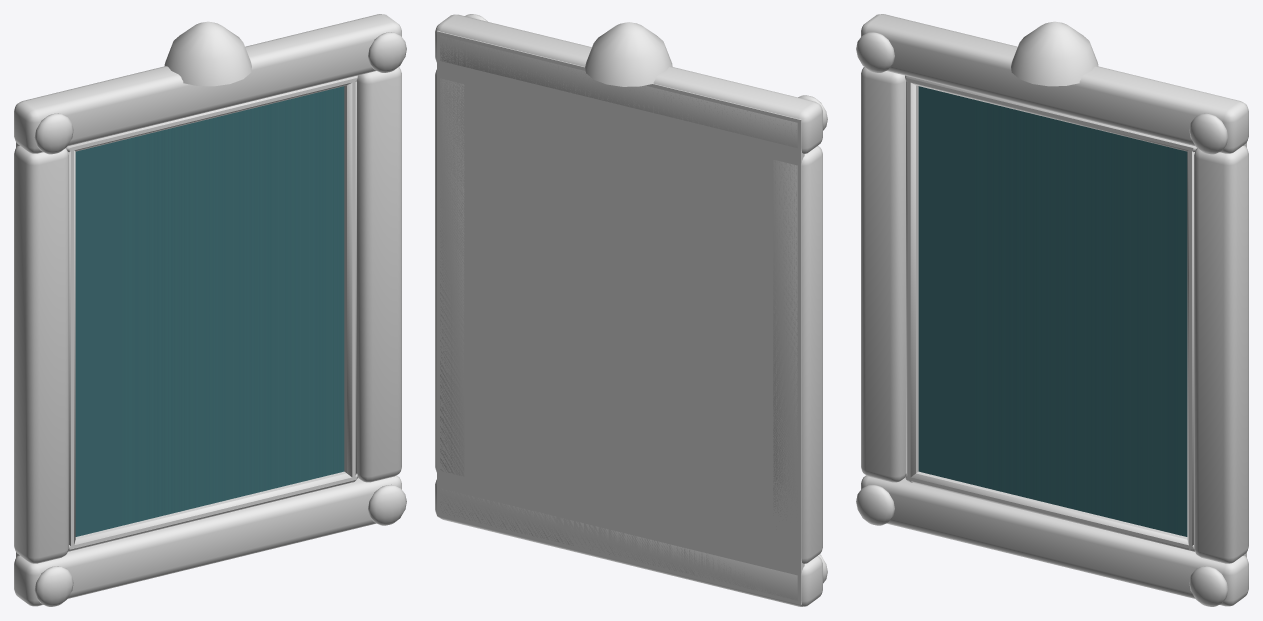
Rendered from nutcracker_frame.fbx.
3 renders of one model, left to right at view 1: azimuth 30°, elevation 25°; view 2: azimuth 150°, elevation 25°; view 3: azimuth 330°, elevation 25°, orthographic.
Visible parts, largest first — view 1: nutcracker_frame; view 2: nutcracker_frame; view 3: nutcracker_frame.
Boxes of the visible parts, x1,y1,x2,y2 form: nutcracker_frame: (14, 14, 406, 606); nutcracker_frame: (435, 14, 827, 606); nutcracker_frame: (856, 14, 1248, 606).
Size of the model in its own units: 3.4 by 4.65 by 0.7.
